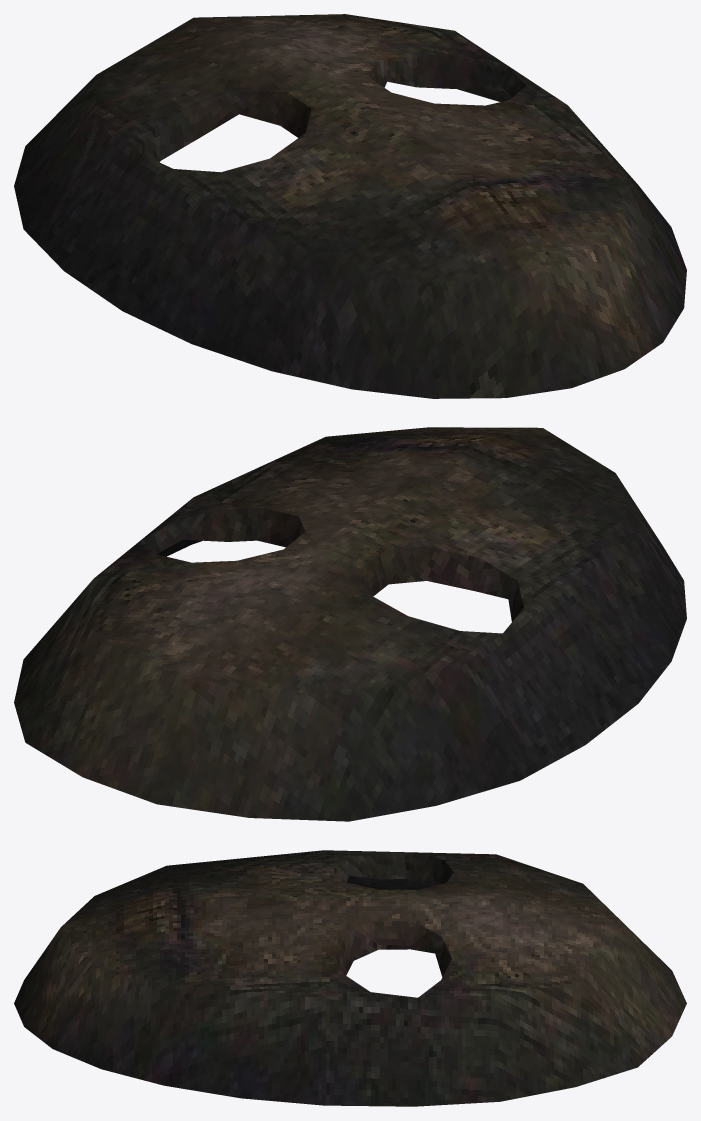
File: mask_mx_3.glb
3 renders of one model, top to bottom at view 1: azimuth 30°, elevation 25°; view 2: azimuth 150°, elevation 25°; view 3: azimuth 270°, elevation 25°, orthographic. The views are drawn at different scales.
Parts seen in each view (by area): view 1: mask_mx_3; view 2: mask_mx_3; view 3: mask_mx_3.
Part boxes in pixels (bbox=[...]): mask_mx_3: bbox=[14, 14, 686, 398]; mask_mx_3: bbox=[14, 427, 686, 821]; mask_mx_3: bbox=[14, 850, 686, 1106].
Size of the model in its own units: 0.2322 by 0.0554 by 0.3198.
1 material, 1 textured.
